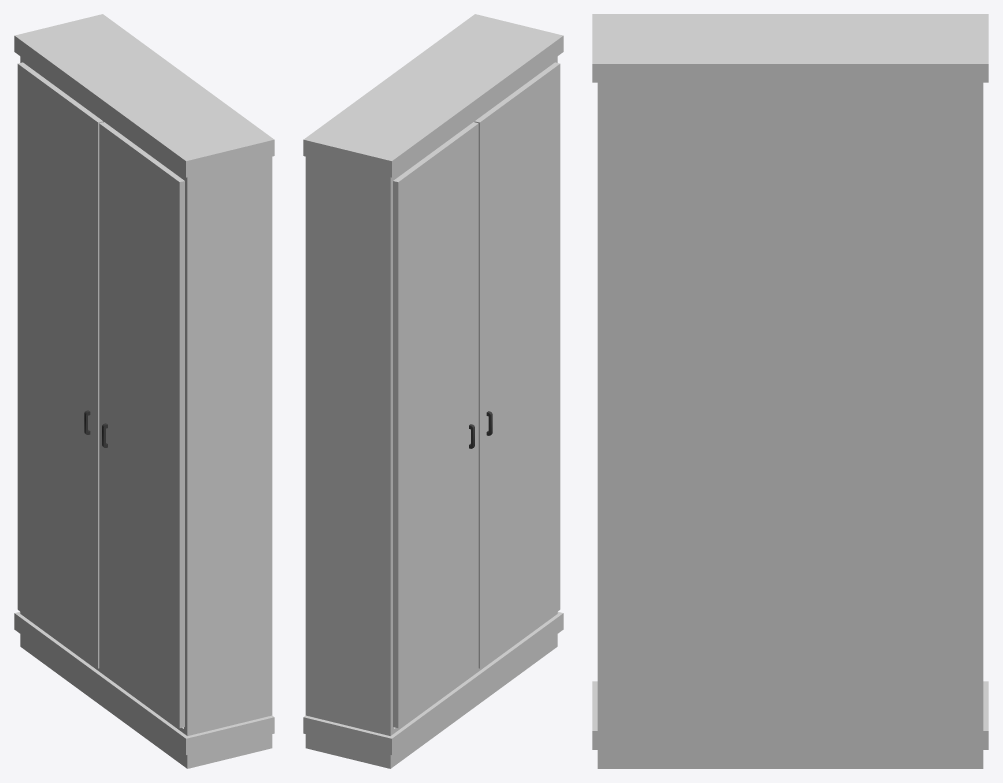
Rendered from Bookcase15.fbx.
The picture shows the model from 3 angles, left to right: view 1: azimuth 30°, elevation 25°; view 2: azimuth 150°, elevation 25°; view 3: azimuth 270°, elevation 25°; orthographic projection. The views are drawn at different scales.
Visible parts, largest first — view 1: Bookcase15, Cube.015, Cube.016; view 2: Bookcase15, Cube.016, Cube.015; view 3: Bookcase15.
Boxes of the visible parts, box(x1,y1,x2,y2) form: Bookcase15: box(14, 14, 274, 768); Cube.015: box(99, 122, 184, 727); Cube.016: box(17, 62, 103, 668); Bookcase15: box(303, 14, 563, 768); Cube.016: box(393, 122, 478, 727); Cube.015: box(474, 62, 560, 668); Bookcase15: box(592, 14, 988, 768).
Size of the model in its own units: 0.3002 by 0.9482 by 1.86.
